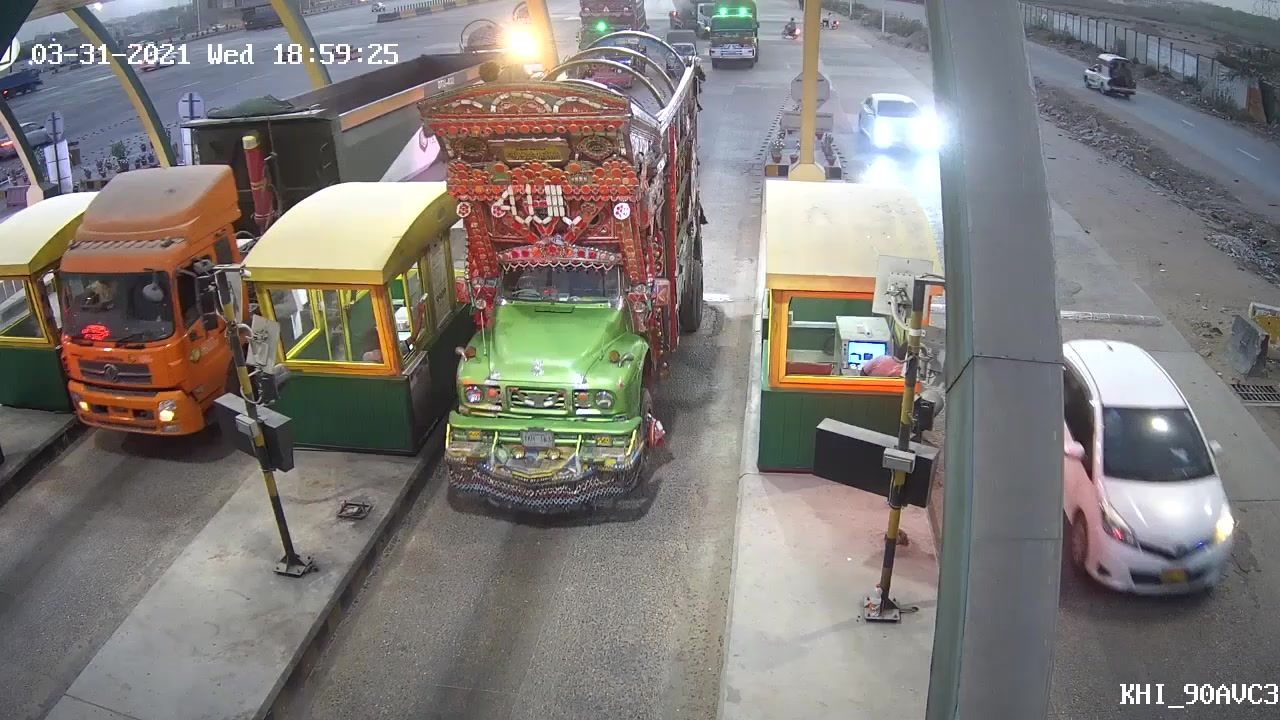F5: (410, 30, 709, 516)
